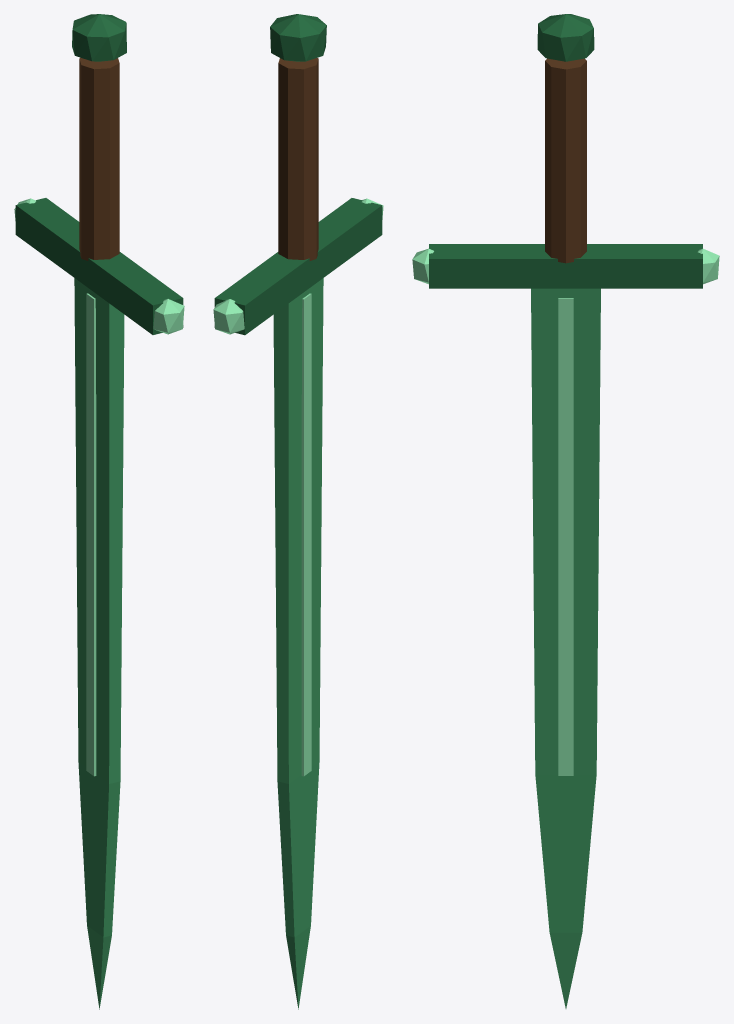
File: held_adamant_longsword.glb
The picture shows the model from 3 angles, left to right: view 1: azimuth 30°, elevation 25°; view 2: azimuth 150°, elevation 25°; view 3: azimuth 270°, elevation 25°; orthographic projection.
Visible parts, largest first — view 1: held_adamant_longsword; view 2: held_adamant_longsword; view 3: held_adamant_longsword.
Part boxes in pixels (x1,y1,x2,y2): held_adamant_longsword: (14, 14, 184, 1009); held_adamant_longsword: (213, 14, 383, 1009); held_adamant_longsword: (412, 14, 719, 1008).
Size of the model in its own units: 0.052 by 1 by 0.2801.
